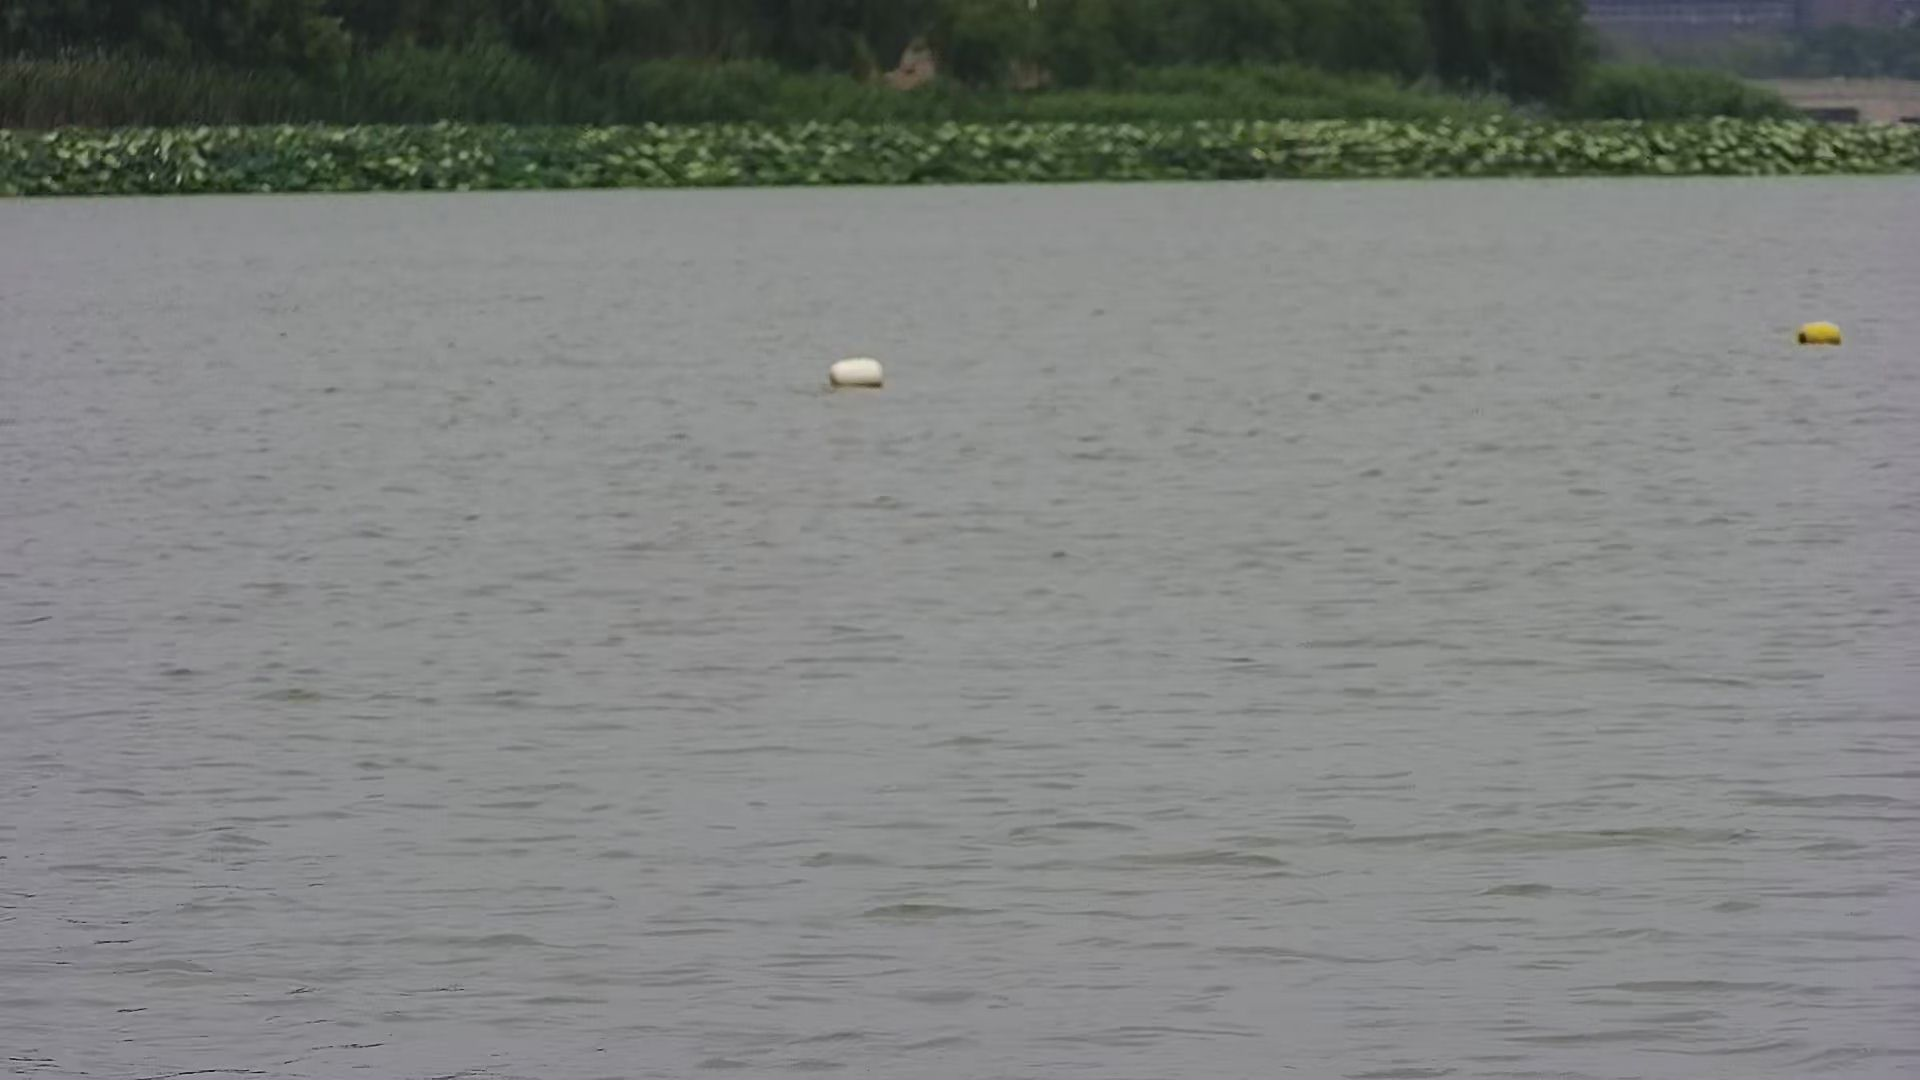rubbish: (818, 353, 894, 392), (1792, 315, 1846, 352)
